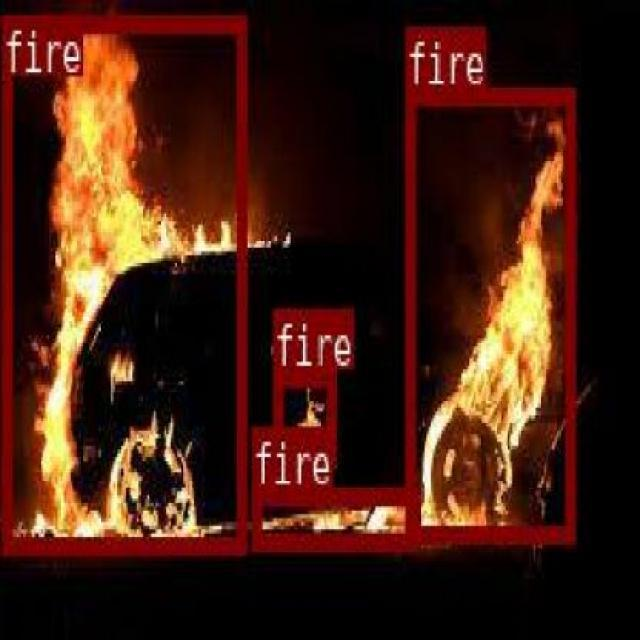Fire: (0, 11, 245, 552), (405, 86, 573, 540), (250, 484, 418, 548), (272, 367, 334, 461)
